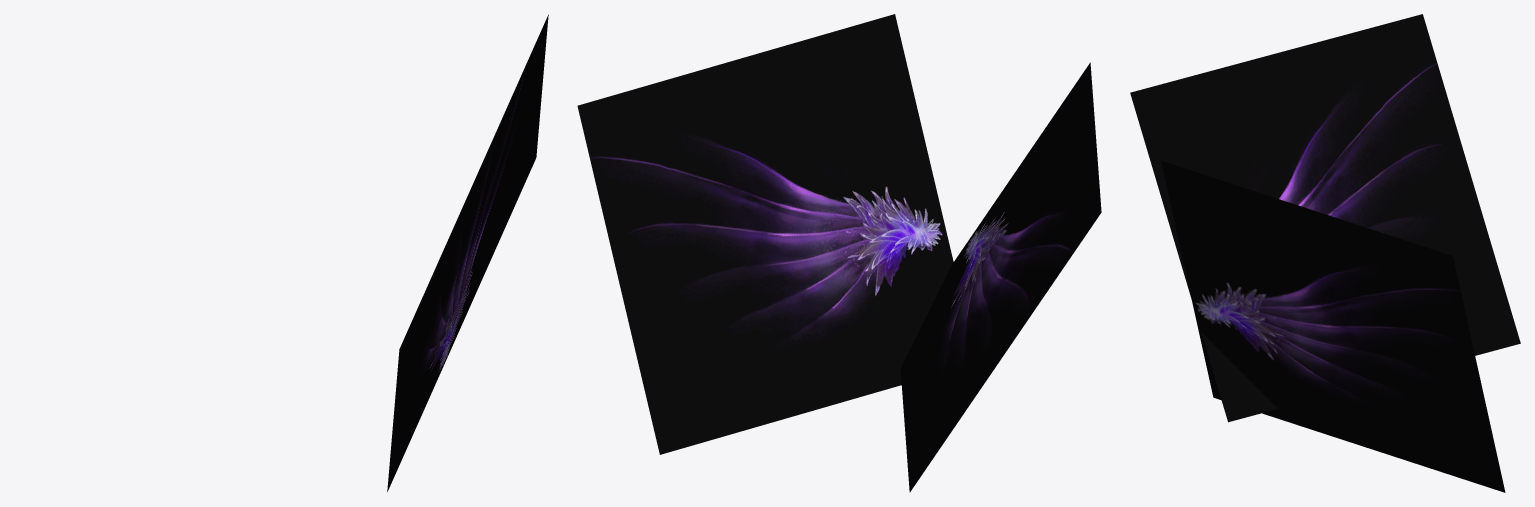
File: Chibang_mesh013.FBX
3 renders of one model, left to right at view 1: azimuth 30°, elevation 25°; view 2: azimuth 150°, elevation 25°; view 3: azimuth 270°, elevation 25°, orthographic. The views are drawn at different scales.
Visible parts, largest first — view 1: Plane001; view 2: Plane001; view 3: Plane001.
Part boxes in pixels (x1,y1,x2,y2): Plane001: [387, 14, 548, 491]; Plane001: [577, 14, 1101, 492]; Plane001: [1130, 14, 1520, 492].
Size of the model in its own units: 39.02 by 23.62 by 27.25.
